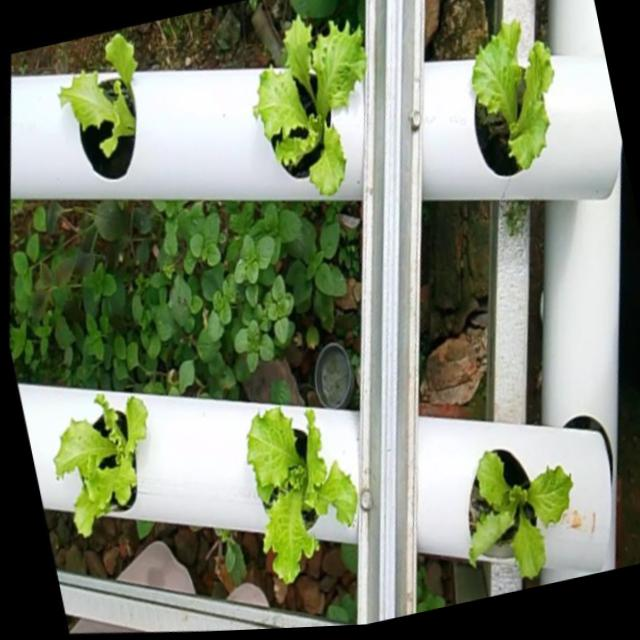Baby: (255, 9, 366, 193), (250, 401, 359, 576), (469, 442, 573, 572), (59, 391, 151, 533), (472, 16, 553, 171), (63, 36, 139, 180)
